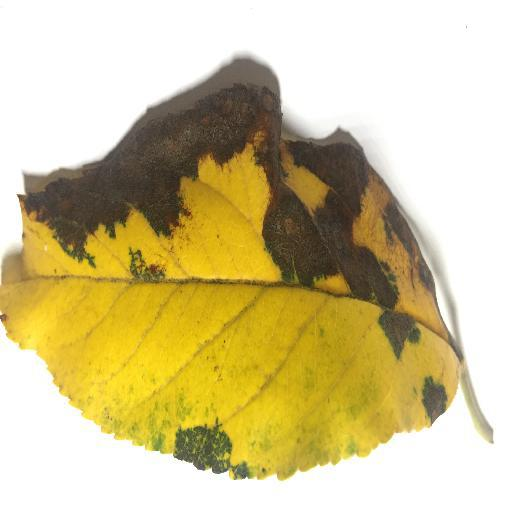Brown_Spot: (14, 75, 439, 310), (160, 423, 260, 491), (373, 307, 421, 360), (420, 382, 454, 425)
